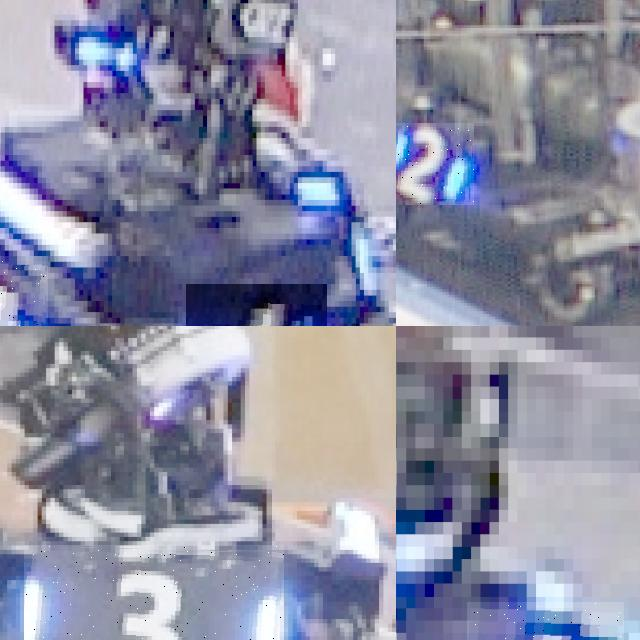B2: (396, 123, 473, 204)
B3: (24, 545, 283, 640)
B4: (186, 284, 326, 326)
B5: (466, 602, 624, 640)
